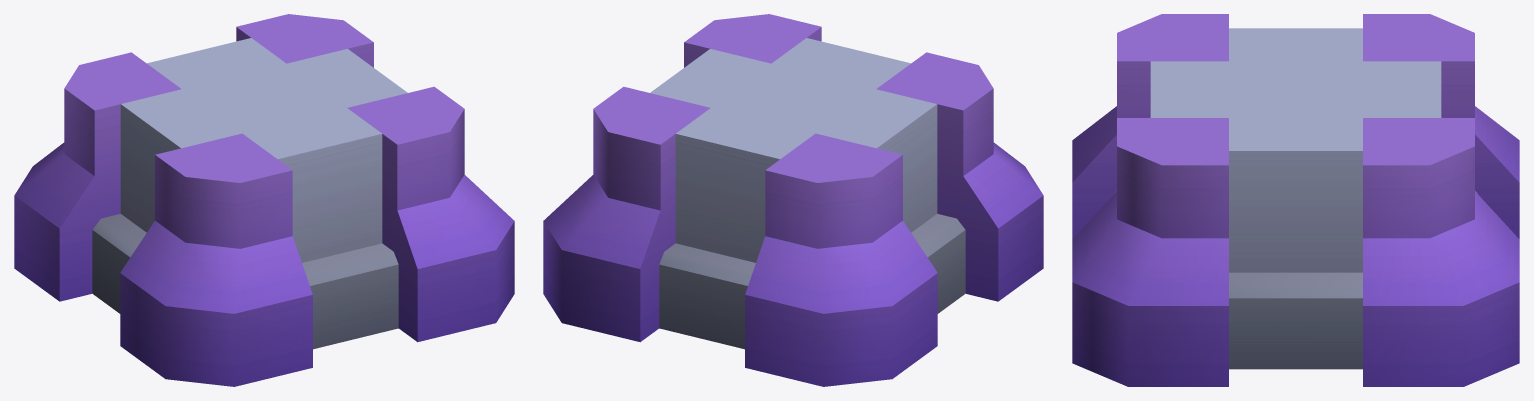
Rendered from tower-square-bottom-b.glb.
3 views of the same model, side by side, from view 1: azimuth 30°, elevation 25°; view 2: azimuth 150°, elevation 25°; view 3: azimuth 270°, elevation 25° (orthographic). The views are drawn at different scales.
Parts seen in each view (by area): view 1: tower-square-bottom-b; view 2: tower-square-bottom-b; view 3: tower-square-bottom-b.
Part boxes in pixels (x1,y1,x2,y2): tower-square-bottom-b: [14, 14, 514, 386]; tower-square-bottom-b: [543, 14, 1043, 386]; tower-square-bottom-b: [1072, 14, 1519, 386].
Bounding box in the file's own units: 1 × 0.5001 × 1.
1 material, 1 textured.
